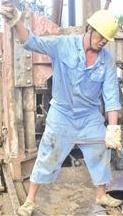boots: (17, 201, 34, 216), (0, 139, 8, 146)
gloves: (0, 0, 22, 28), (104, 124, 121, 150)
hard-hat: (0, 43, 10, 57)
ppe-suit: (20, 29, 122, 187)
